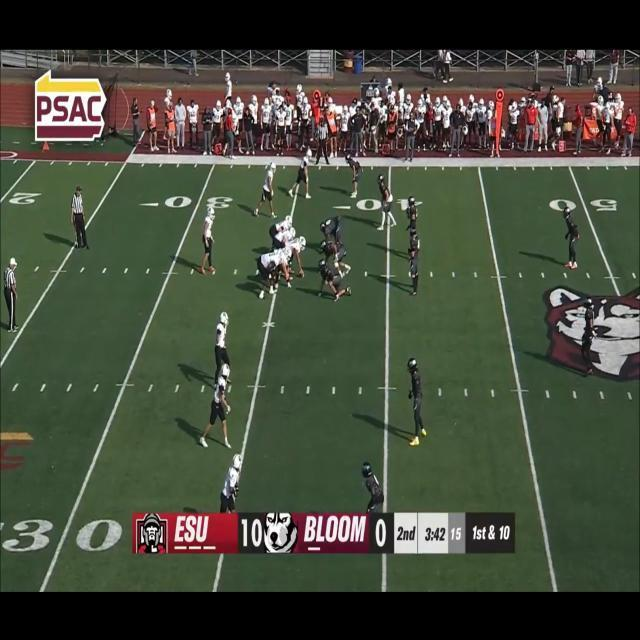football: (297, 268, 305, 280)
